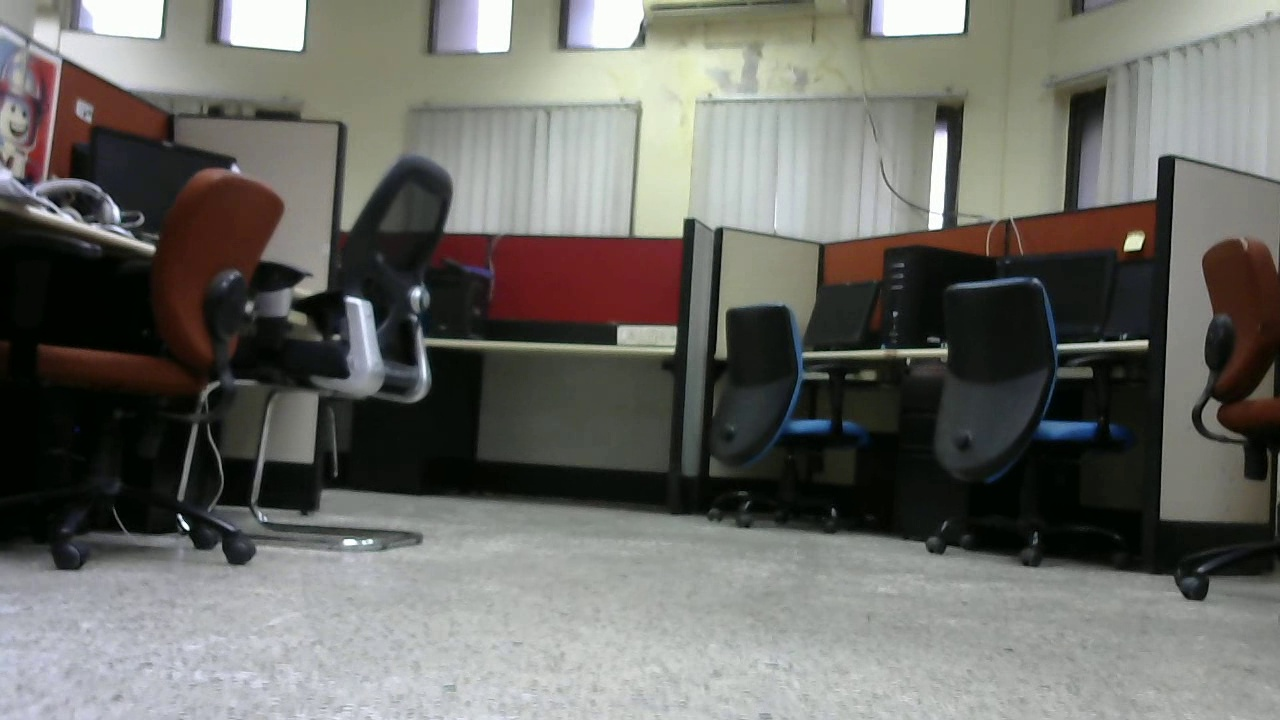chair: (22, 168, 275, 567), (279, 152, 466, 556), (915, 277, 1130, 566), (706, 306, 870, 538)
